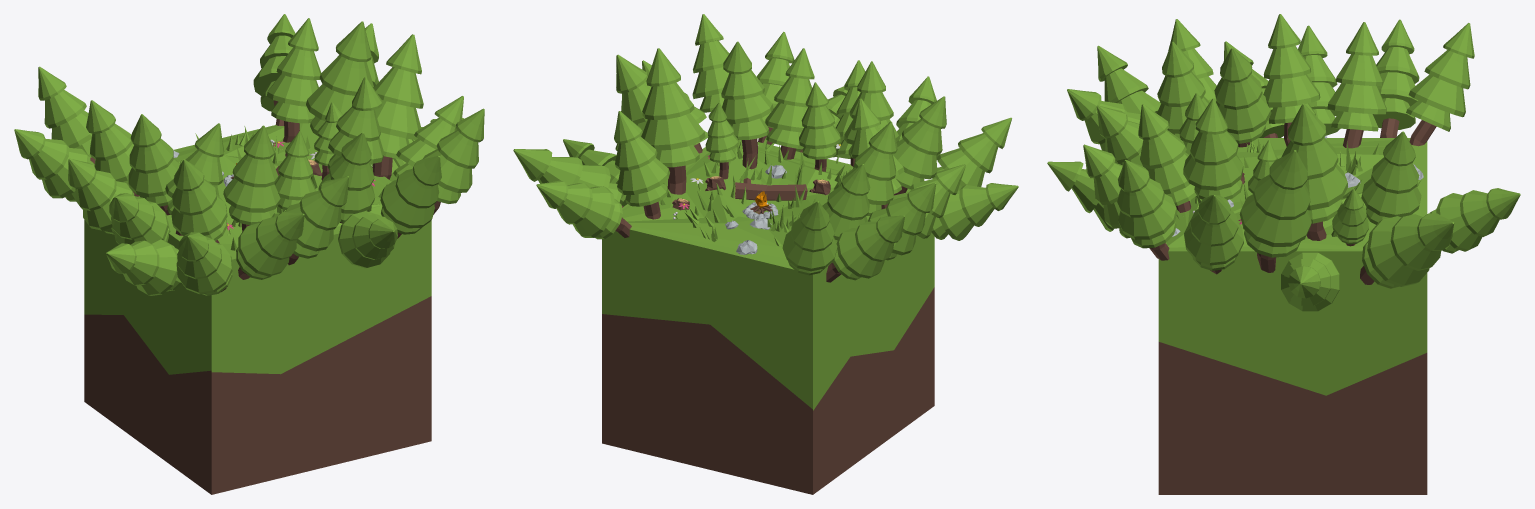
3 views of the same model, side by side, from view 1: azimuth 30°, elevation 25°; view 2: azimuth 150°, elevation 25°; view 3: azimuth 270°, elevation 25° (orthographic). The views are drawn at different scales.
Parts seen in each view (by area): view 1: node_MeshObject1358739392-PolyPaper9, node_MeshObject1877459456-PolyPaper7, node_MeshObject-1898787776-PolyPaper20, node_MeshObject-1234860928-PolyPaper9, node_MeshObject-543629120-PolyPaper15; view 2: node_MeshObject1358739392-PolyPaper9, node_MeshObject1877459456-PolyPaper7, node_MeshObject-543629120-PolyPaper15, node_MeshObject-1898787776-PolyPaper20, node_MeshObject-1234860928-PolyPaper9; view 3: node_MeshObject1358739392-PolyPaper9, node_MeshObject1877459456-PolyPaper7, node_MeshObject-1898787776-PolyPaper20, node_MeshObject-1234860928-PolyPaper9, node_MeshObject-543629120-PolyPaper15.
Boxes of the visible parts, left/top/right/bottom form: node_MeshObject1358739392-PolyPaper9: left=14, top=14, right=441, bottom=494; node_MeshObject1877459456-PolyPaper7: left=223, top=21, right=472, bottom=279; node_MeshObject-1898787776-PolyPaper20: left=38, top=23, right=484, bottom=273; node_MeshObject-1234860928-PolyPaper9: left=68, top=117, right=478, bottom=250; node_MeshObject-543629120-PolyPaper15: left=123, top=18, right=463, bottom=295; node_MeshObject1358739392-PolyPaper9: left=536, top=31, right=961, bottom=494; node_MeshObject1877459456-PolyPaper7: left=538, top=41, right=939, bottom=229; node_MeshObject-543629120-PolyPaper15: left=563, top=96, right=1011, bottom=240; node_MeshObject-1898787776-PolyPaper20: left=513, top=14, right=1018, bottom=275; node_MeshObject-1234860928-PolyPaper9: left=615, top=40, right=965, bottom=260; node_MeshObject1358739392-PolyPaper9: left=1071, top=19, right=1520, bottom=494; node_MeshObject1877459456-PolyPaper7: left=1047, top=89, right=1441, bottom=311; node_MeshObject-1898787776-PolyPaper20: left=1118, top=14, right=1474, bottom=288; node_MeshObject-1234860928-PolyPaper9: left=1117, top=25, right=1368, bottom=274; node_MeshObject-543629120-PolyPaper15: left=1097, top=19, right=1421, bottom=298.
Bounding box in the file's own units: 1.74 × 1.48 × 1.62.
